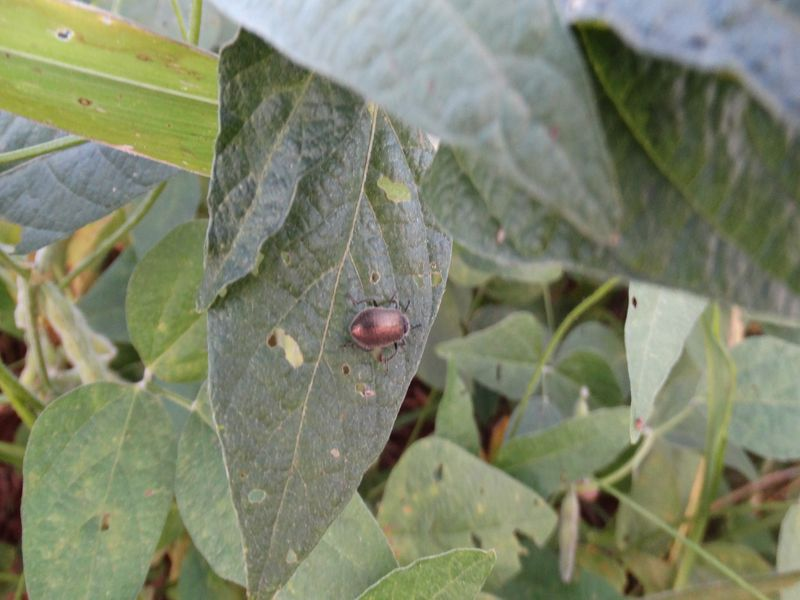Lagria_villosa: (331, 287, 431, 369)
